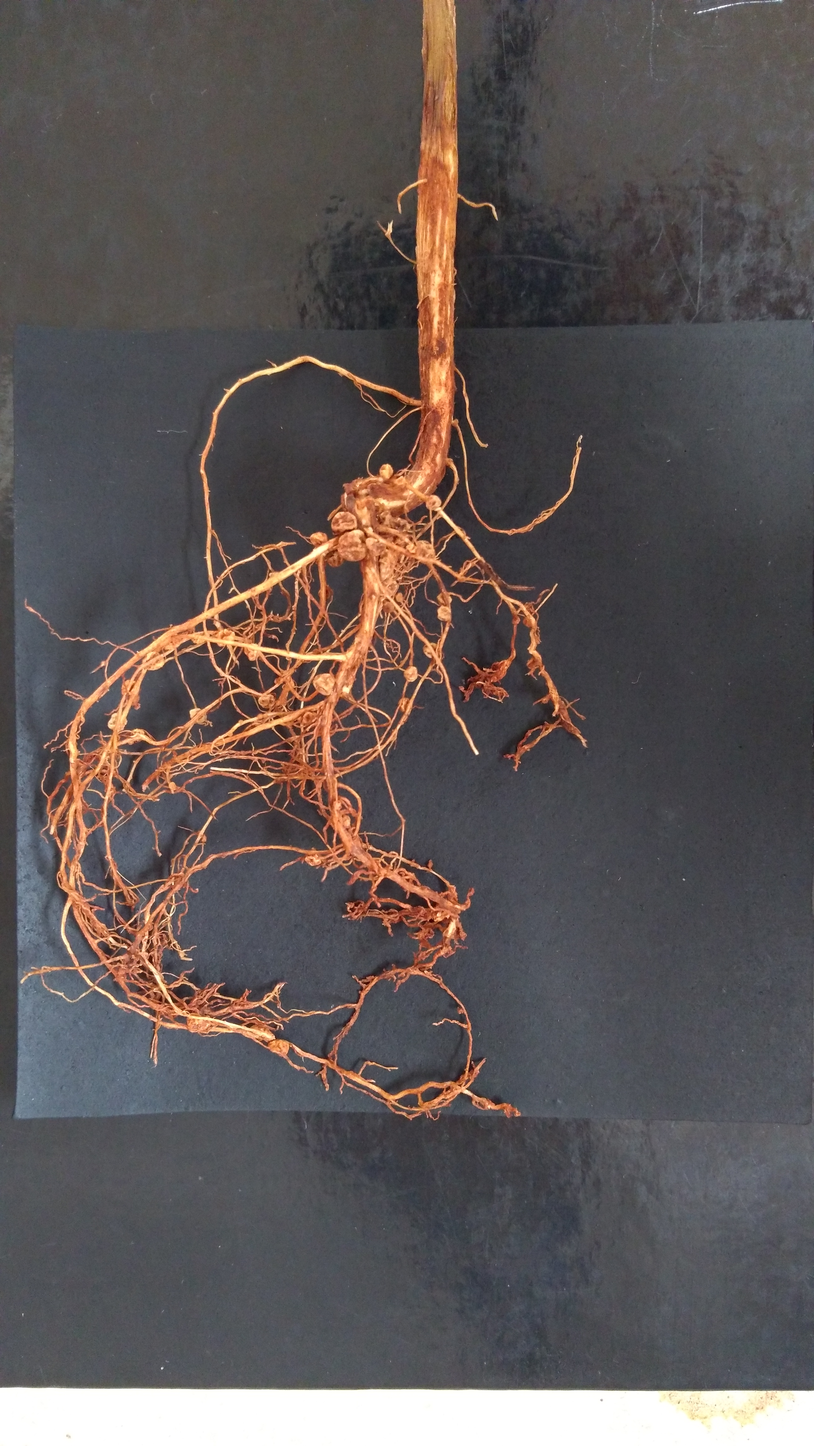nodule: (377, 511, 410, 549), (337, 529, 368, 562), (352, 496, 379, 528), (378, 548, 400, 582), (342, 476, 384, 493), (330, 511, 358, 534), (163, 625, 189, 649), (121, 679, 141, 710), (186, 1012, 212, 1034), (246, 1024, 276, 1043), (313, 673, 336, 695), (415, 539, 436, 563), (120, 951, 149, 968), (142, 651, 165, 671), (365, 536, 386, 557), (380, 576, 399, 599), (491, 659, 510, 681), (108, 711, 128, 731), (267, 1039, 289, 1057), (296, 710, 320, 726), (431, 902, 451, 921), (101, 755, 119, 776), (215, 629, 236, 647), (243, 642, 261, 661), (325, 550, 344, 568), (305, 847, 322, 867), (126, 728, 145, 745), (346, 900, 366, 916), (189, 708, 207, 724), (177, 618, 195, 634), (309, 531, 328, 546), (436, 604, 451, 622), (423, 642, 439, 658), (426, 494, 442, 510), (403, 666, 418, 683), (257, 694, 275, 708), (190, 632, 210, 644), (311, 545, 328, 559), (436, 592, 452, 606), (446, 884, 458, 902), (380, 464, 394, 479), (282, 676, 296, 691), (522, 614, 536, 628), (345, 494, 356, 511), (398, 697, 410, 712), (341, 813, 352, 829), (317, 586, 330, 599), (394, 475, 407, 488), (527, 657, 541, 669), (382, 601, 395, 613), (424, 927, 435, 939), (405, 543, 417, 554), (331, 799, 342, 809), (523, 602, 534, 612), (445, 456, 454, 468), (511, 614, 520, 626), (458, 931, 468, 941), (395, 591, 404, 602), (168, 781, 177, 791), (466, 887, 475, 897), (456, 1006, 464, 1015), (452, 418, 460, 427), (268, 571, 280, 577), (423, 969, 433, 976), (427, 859, 434, 869), (273, 677, 282, 684), (365, 975, 375, 981), (398, 971, 406, 978), (200, 834, 207, 842), (458, 575, 465, 583), (490, 675, 498, 682), (541, 697, 549, 704), (313, 648, 320, 655), (262, 713, 268, 718), (228, 732, 233, 737), (238, 719, 244, 723), (458, 686, 464, 690), (285, 657, 290, 661), (124, 749, 127, 753)
